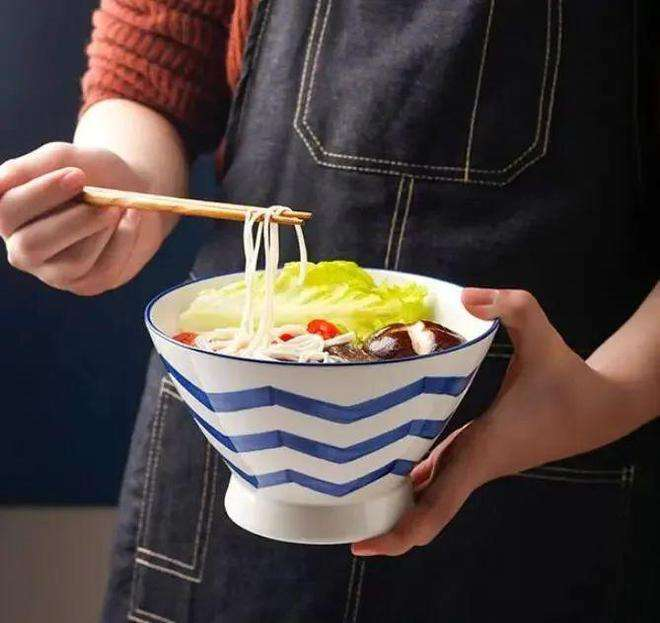no-phone: (1, 137, 213, 300)
